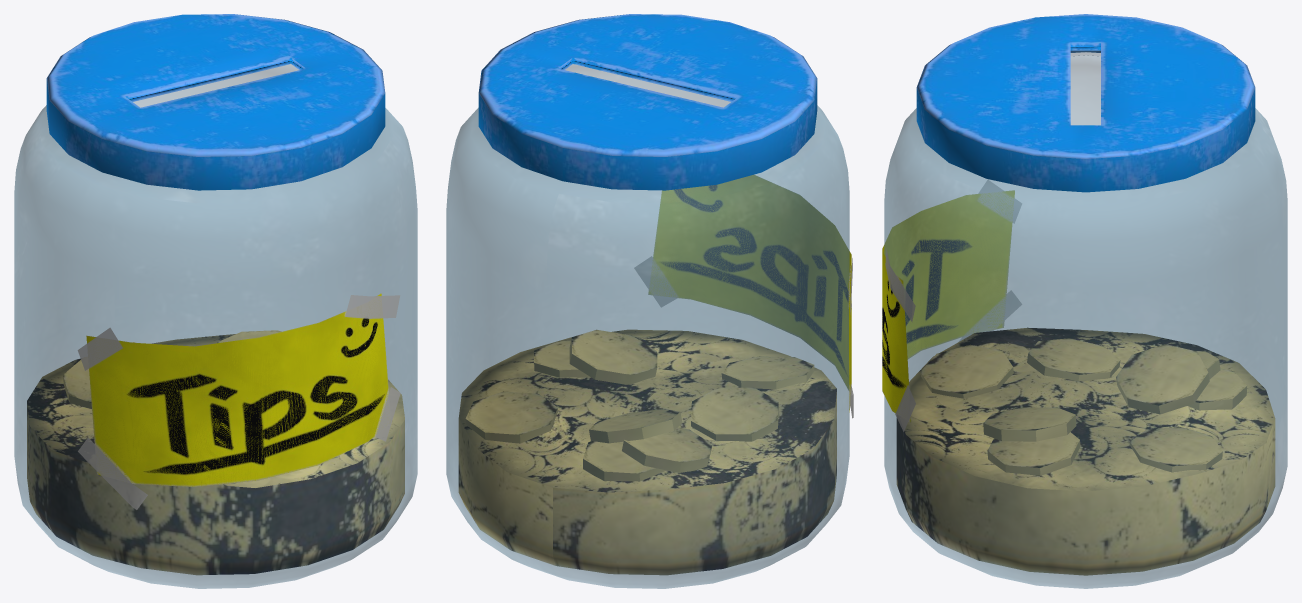
File: TipJar.fbx
3 renders of one model, left to right at view 1: azimuth 30°, elevation 25°; view 2: azimuth 150°, elevation 25°; view 3: azimuth 270°, elevation 25°, orthographic.
Visible parts, largest first — view 1: tipJar1; view 2: tipJar1; view 3: tipJar1.
Boxes of the visible parts, <box> form: tipJar1: <box>14,14,417,588</box>; tipJar1: <box>446,14,853,588</box>; tipJar1: <box>882,14,1287,588</box>.
Bounding box in the file's own units: 47.06 × 56.99 × 47.3.
3 materials, 2 textured.
